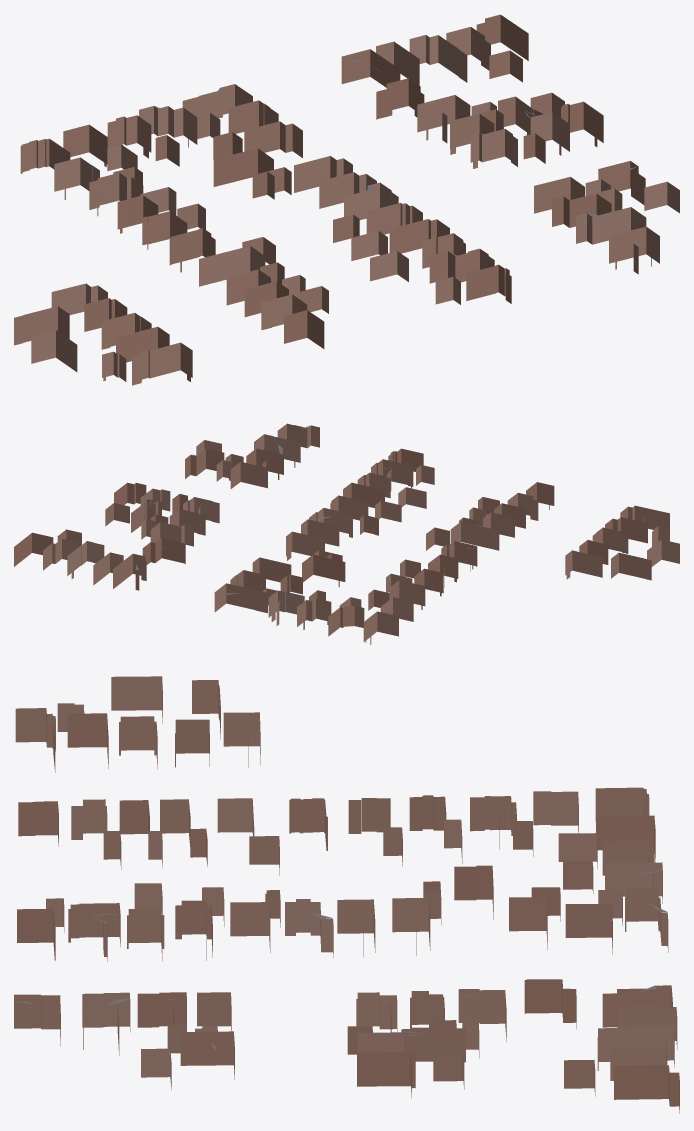
File: c_1640_17822_buildings_residential.glb
3 renders of one model, top to bottom at view 1: azimuth 30°, elevation 25°; view 2: azimuth 150°, elevation 25°; view 3: azimuth 270°, elevation 25°, orthographic. The views are drawn at different scales.
Visible parts, largest first — view 1: geometry_0; view 2: geometry_0; view 3: geometry_0.
Part boxes in pixels (x1=…): geometry_0: x1=14, y1=14, x2=679, y2=385; geometry_0: x1=14, y1=423, x2=679, y2=644; geometry_0: x1=14, y1=676, x2=679, y2=1113.
Size of the model in its own units: 245 by 9.58 by 169.
